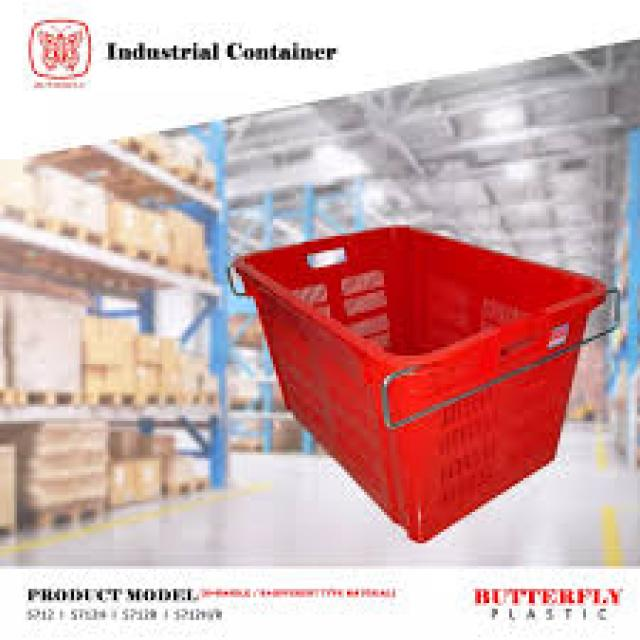basket: (173, 181, 612, 576)
